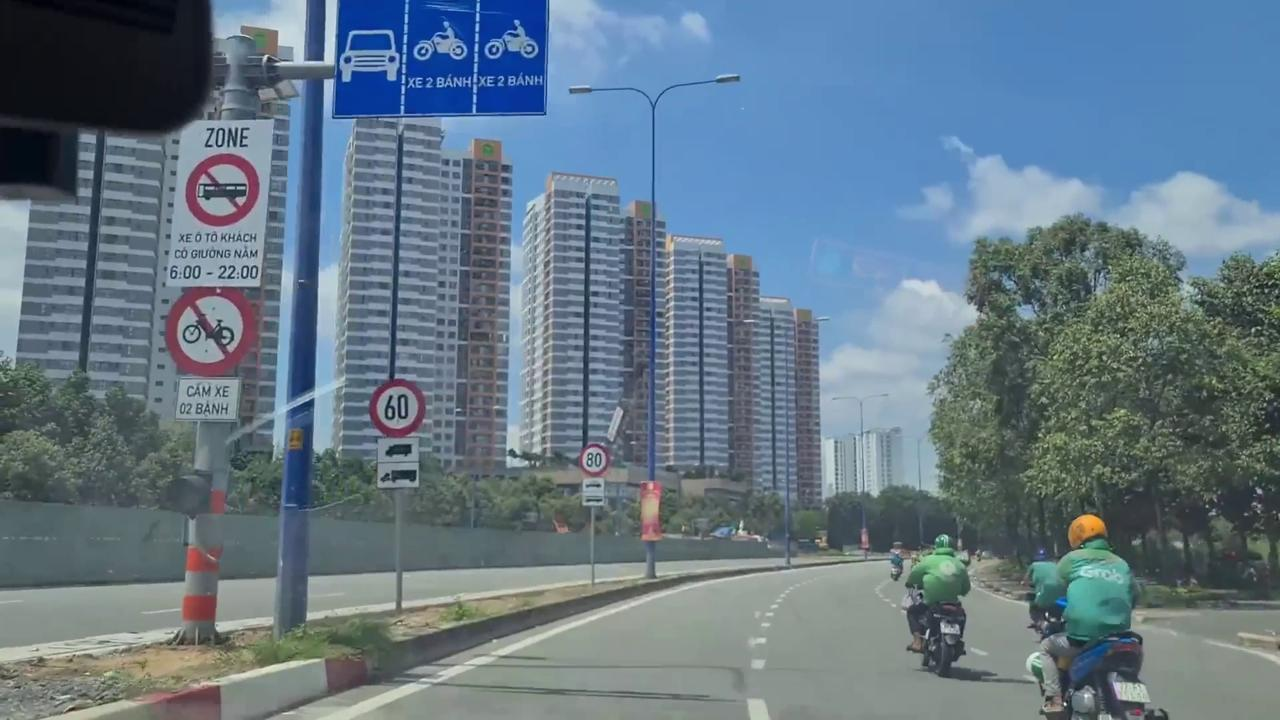Biển phụ: (173, 376, 240, 424), (375, 436, 422, 489), (580, 476, 605, 506)
Cấm cac phương tiện hoạt động trong khung giờ cố định: (167, 118, 265, 288)
Cấm xe máy: (161, 282, 260, 376)
GIơi hạn tốc độ 60Km/h: (368, 376, 427, 438)
Giới hạn tốc độ 80Km/h: (578, 442, 610, 477)
Làn đường cho từng xe: (329, 0, 552, 119)
